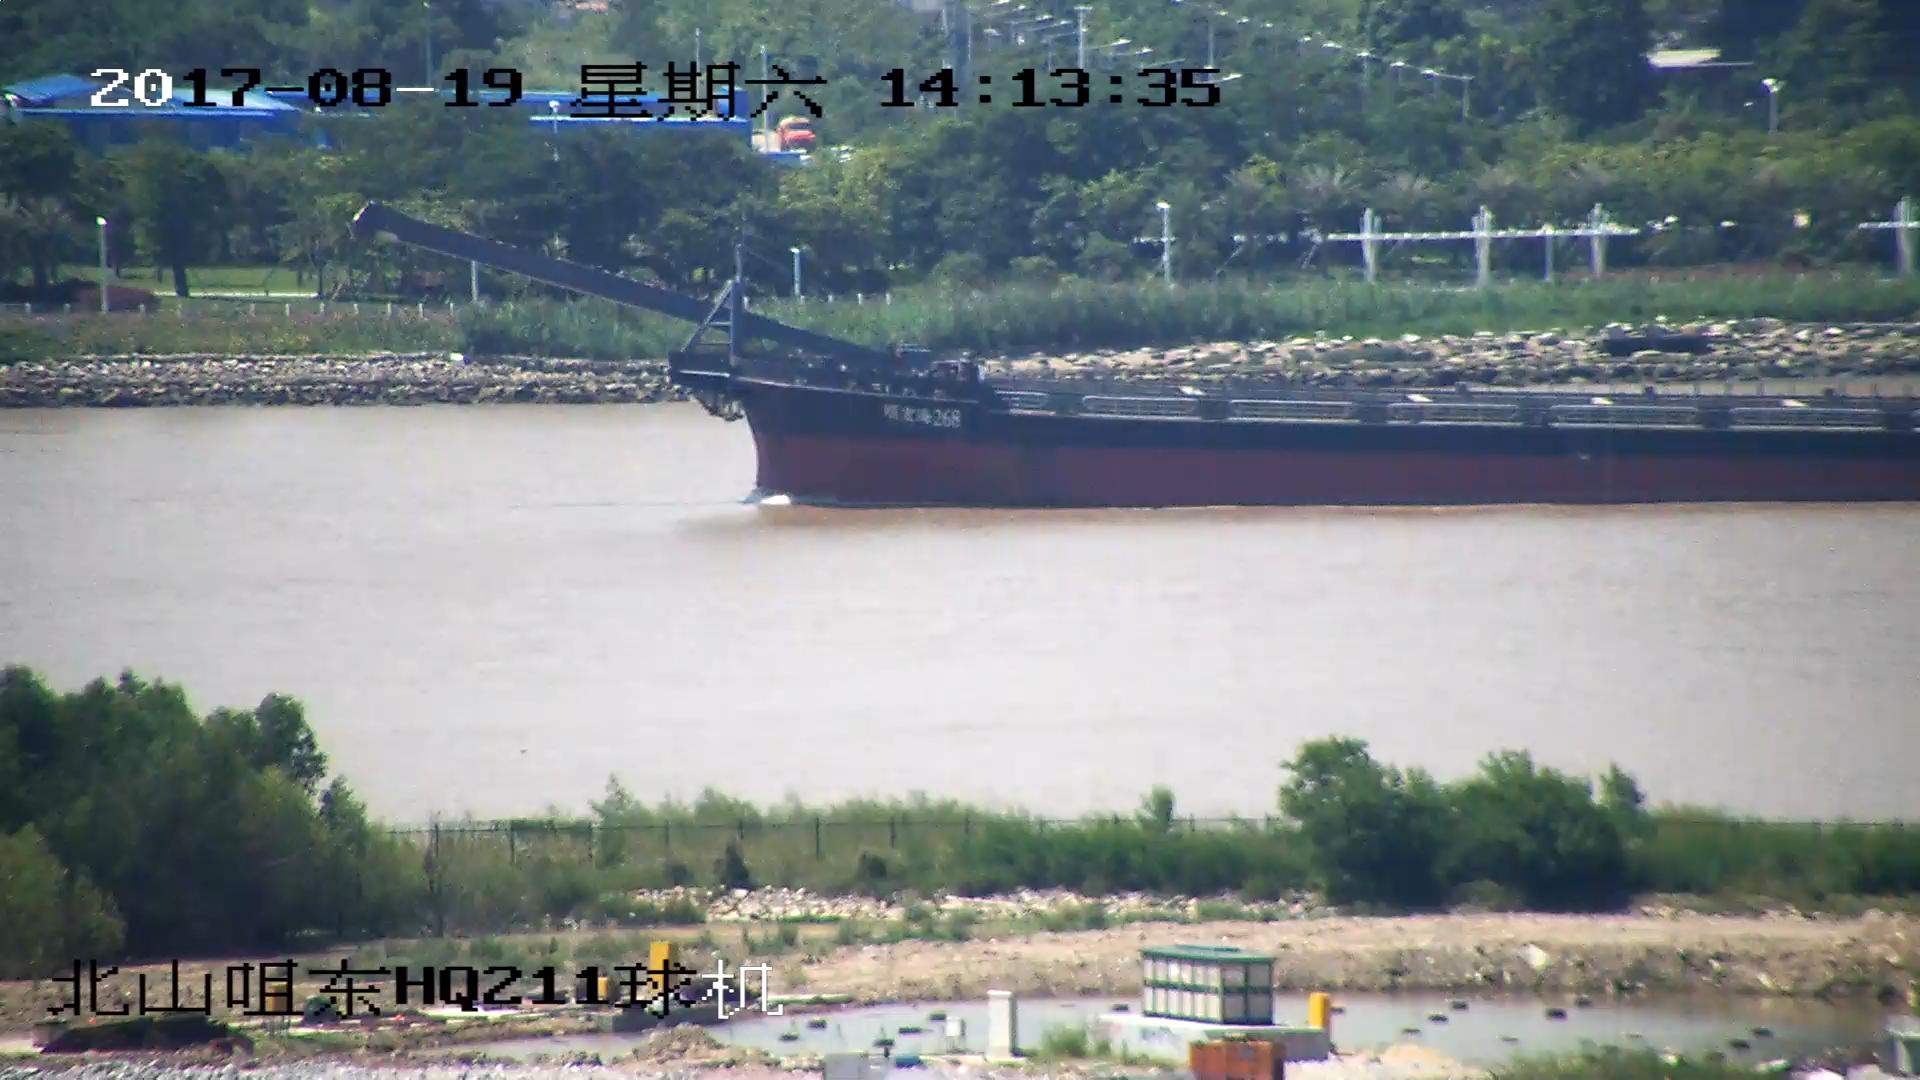bulk cargo carrier: (361, 202, 1920, 508)
